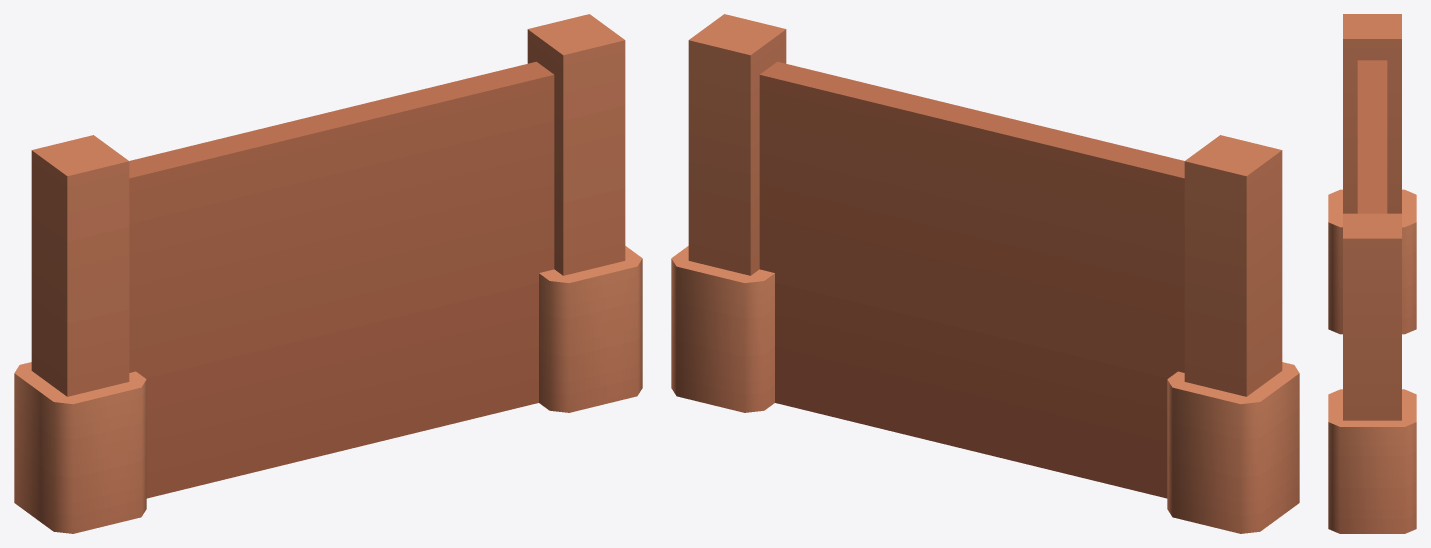
The model's file is fence_picket.glb.
The picture shows the model from 3 angles, left to right: view 1: azimuth 30°, elevation 25°; view 2: azimuth 150°, elevation 25°; view 3: azimuth 270°, elevation 25°; orthographic projection. The views are drawn at different scales.
Visible parts, largest first — view 1: fence; view 2: fence; view 3: fence.
Part boxes in pixels (bbox=[...]): fence: bbox=[14, 14, 642, 533]; fence: bbox=[671, 14, 1299, 533]; fence: bbox=[1328, 14, 1416, 533].
Size of the model in its own units: 0.475 by 0.27 by 0.075.
Materials: 1 (1 with a texture image).
